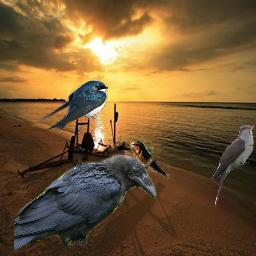Crow: (14, 153, 158, 252)
Cuckoo: (211, 125, 254, 207)
Swallow: (39, 80, 108, 130), (130, 140, 170, 179)
